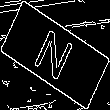N_SW: (31, 23, 79, 87)
